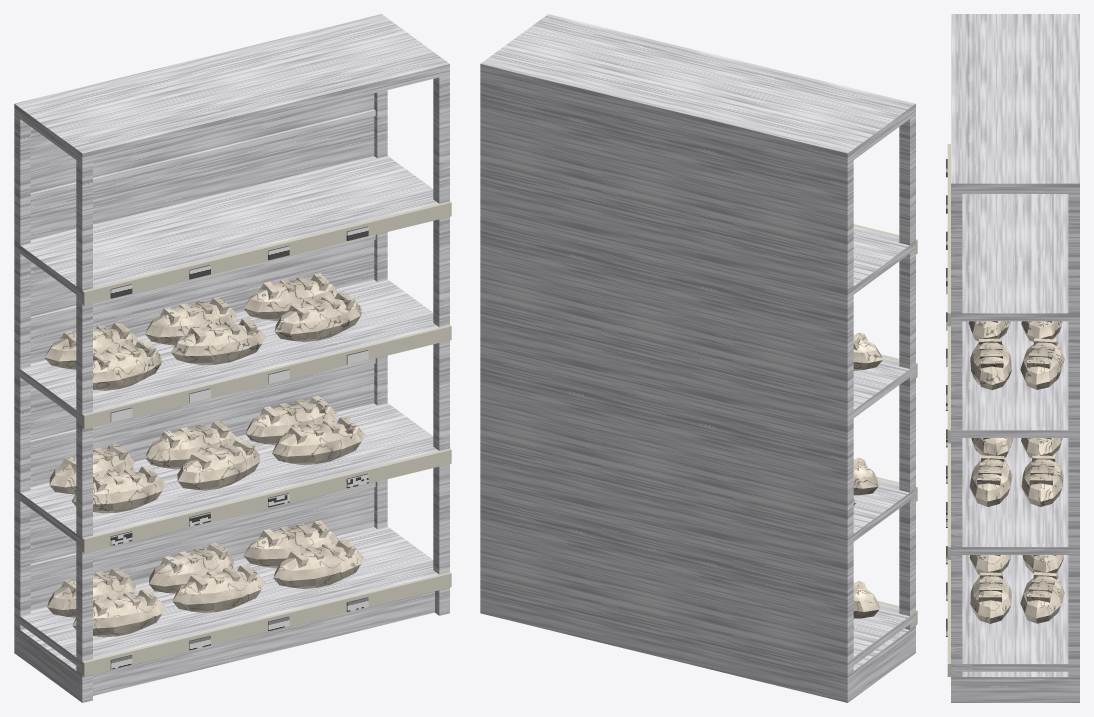
File: sc_pane.obj
3 views of the same model, side by side, from view 1: azimuth 30°, elevation 25°; view 2: azimuth 150°, elevation 25°; view 3: azimuth 270°, elevation 25° (orthographic). The views are drawn at different scales.
Parts seen in each view (by area): view 1: metallo_003, metallo_001, metallo_000, liscio_005, metallo_004, metallo_002, crosta_039, crosta_015, crosta_031, crosta_019, crosta_043, crosta_027 (+19 smaller); view 2: metallo_001, metallo_003, metallo_000, metallo_004, crosta_035; view 3: metallo_003, metallo_000, metallo_004, metallo_001, liscio_005, crosta_043, crosta_019, crosta_029, crosta_017, crosta_031, crosta_041, crosta_037 (+12 smaller).
Boxes of the visible parts, x1,y1,x2,y2 form: metallo_003: (14,14,449,668); metallo_001: (14,15,380,642); metallo_000: (14,14,449,702); liscio_005: (82,201,451,676); metallo_004: (18,591,434,699); metallo_002: (30,109,375,570); crosta_039: (171,324,266,365); crosta_015: (172,570,264,612); crosta_031: (272,423,364,464); crosta_019: (273,546,363,588); crosta_043: (274,298,362,341); crosta_027: (177,446,259,490); metallo_001: (480,62,850,702); metallo_003: (480,14,915,669); metallo_000: (480,14,915,702); metallo_004: (850,628,909,700); crosta_035: (853,335,882,370); metallo_003: (951,14,1079,671); metallo_000: (951,14,1079,702); metallo_004: (959,671,1074,702); metallo_001: (1074,14,1079,702); liscio_005: (947,144,951,676); crosta_043: (970,338,1011,390); crosta_019: (970,572,1011,623); crosta_029: (1021,455,1063,506); crosta_017: (1020,572,1064,623); crosta_031: (969,455,1012,506); crosta_041: (1020,338,1064,389); crosta_037: (1021,321,1062,341).
Size of the model in its own units: 1.4 by 2 by 0.467.
11 materials, 10 textured.
